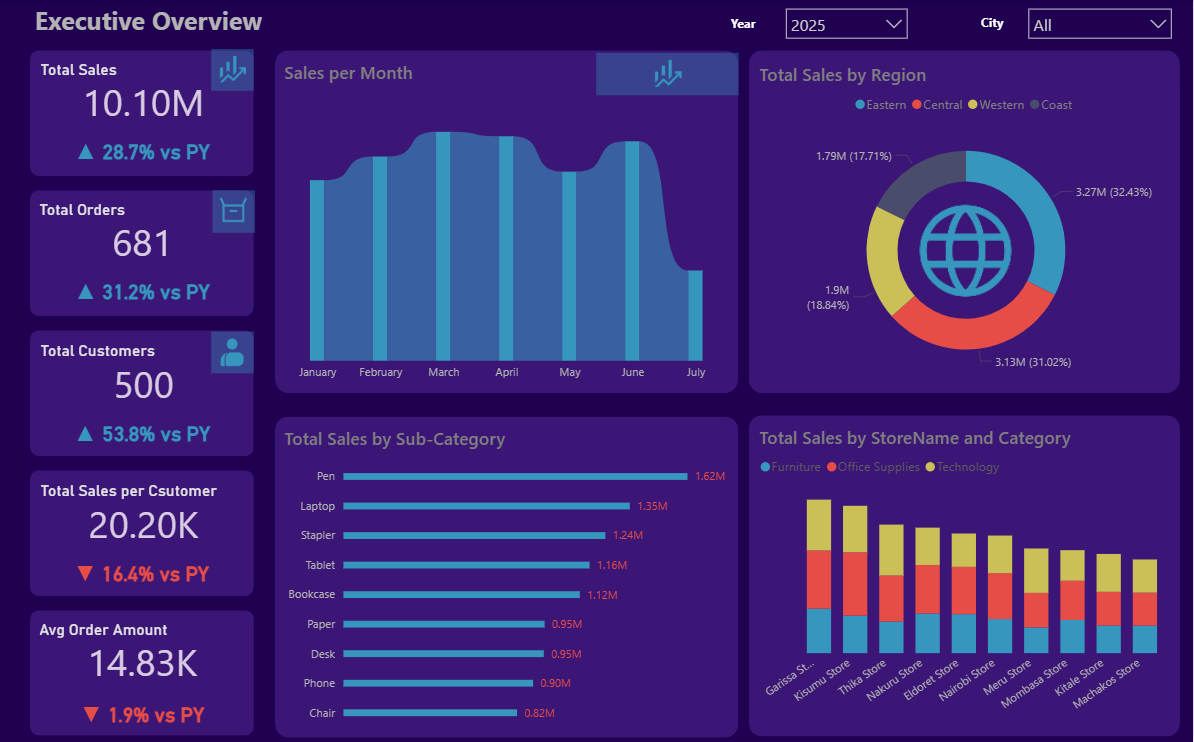

The dashboard page shown, as its layout file describes it:
{"tool":"powerbi","page":{"name":"Executive Overview","canvas":[1280,800],"ordinal":0},"visuals":[{"type":"shape","box":[31.8,54.9,240,135],"z":0},{"type":"shape","box":[31.8,205.1,240,135],"z":1000},{"type":"shape","box":[31.8,355.4,240,135],"z":2000},{"type":"shape","box":[31.8,505.7,240,135],"z":3000},{"type":"shape","box":[31.6,655.9,240.1,134.5],"z":4000},{"type":"card","title":"Total Sales","fields":{"Values":["All Measures.Total Sales"]},"box":[32.9,54.9,240.1,85.1],"z":5000},{"type":"card","title":"Total Orders","fields":{"Values":["All Measures.Total Orders"]},"box":[31.6,204.5,240.1,85.1],"z":6000},{"type":"card","title":"Total Customers","fields":{"Values":["All Measures.Total Customers"]},"box":[32.9,356.8,240.1,85.1],"z":7000},{"type":"card","title":"Total Sales per Csutomer","fields":{"Values":["All Measures.Sales per Customer"]},"box":[32.9,506.3,240.1,85.1],"z":8000},{"type":"card","title":"Avg Order Amount","fields":{"Values":["All Measures.Average Order Amount"]},"box":[31.6,655.9,240.1,85.1],"z":9000},{"type":"shape","box":[295,54.9,496.7,367.8],"z":10000},{"type":"card","fields":{"Values":["All Measures.Previous Year Sales"]},"box":[32.9,140,238.8,49.4],"z":11000},{"type":"card","fields":{"Values":["All Measures.Orders Growth vs PY"]},"box":[32.9,289.5,238.8,49.4],"z":12000},{"type":"card","fields":{"Values":["All Measures.Customers Growth vs PY"]},"box":[32.9,440.5,238.8,49.4],"z":13000},{"type":"card","fields":{"Values":["All Measures.Sales per Customer Growth vs PY"]},"box":[31.6,591.4,240.1,49.4],"z":14000},{"type":"card","fields":{"Values":["All Measures.Avg Order Amount Growth vs PY"]},"box":[32.9,742.4,238.8,49.4],"z":15000},{"type":"ribbonChart","title":"Sales per Month","fields":{"Category":["Orders.OrderDate.Variation.Date Hierarchy.Month"],"Y":["All Measures.Total Sales"]},"box":[295,54.9,496.7,367.8],"z":16000},{"type":"slicer","fields":{"Values":["Orders.OrderDate.Variation.Date Hierarchy.Year"]},"box":[832.9,0,150.9,49.4],"z":17000},{"type":"shape","box":[295,447.3,496.7,344.4],"z":18000},{"type":"shape","box":[803.4,54.9,462.4,367.8],"z":19000},{"type":"shape","box":[803.4,446,462.4,344.4],"z":20000},{"type":"donutChart","fields":{"Y":["All Measures.Total Sales"],"Category":["Stores.Region"]},"box":[804.1,57.6,462.4,365],"z":21000},{"type":"clusteredBarChart","fields":{"Category":["Products.Sub-Category"],"Y":["All Measures.Total Sales"]},"box":[295,447.3,496.7,344.4],"z":22000},{"type":"columnChart","fields":{"Category":["Stores.StoreName"],"Y":["All Measures.Total Sales"],"Series":["Products.Category"]},"box":[804.1,446,462.4,344.4],"z":23000},{"type":"slicer","fields":{"Values":["Customers.City"]},"box":[1092.3,0,174.3,49.4],"z":24000},{"type":"textbox","box":[1047,11,52.1,30.2],"z":25000},{"type":"textbox","box":[779.4,12.3,52.1,30.2],"z":26000},{"type":"textbox","box":[31.6,0,664.2,57.6],"z":27000},{"type":"image","box":[226.4,53.5,45.3,45],"z":28000},{"type":"image","box":[227.8,204.5,45.3,45.3],"z":29000},{"type":"image","box":[226.4,356.8,45.3,45],"z":30000},{"type":"image","box":[971.9,206.4,127.3,127.3],"z":30001},{"type":"image","box":[639.4,57.6,152.8,45.6],"z":30002}]}

Visuals, with their boxes in screenshot pixels (x1, y1, x2, y2), scaled from the page's 1280x800 canvas onto the 1194x742 screenshot:
shape: crop(30, 51, 254, 176)
shape: crop(30, 190, 254, 315)
shape: crop(30, 330, 254, 455)
shape: crop(30, 469, 254, 594)
shape: crop(29, 608, 253, 733)
"Total Sales" card: crop(31, 51, 255, 130)
"Total Orders" card: crop(29, 190, 253, 269)
"Total Customers" card: crop(31, 331, 255, 410)
"Total Sales per Csutomer" card: crop(31, 470, 255, 549)
"Avg Order Amount" card: crop(29, 608, 253, 687)
shape: crop(275, 51, 739, 392)
card - All Measures.Previous Year Sales: crop(31, 130, 253, 176)
card - All Measures.Orders Growth vs PY: crop(31, 269, 253, 314)
card - All Measures.Customers Growth vs PY: crop(31, 409, 253, 454)
card - All Measures.Sales per Customer Growth vs PY: crop(29, 549, 253, 594)
card - All Measures.Avg Order Amount Growth vs PY: crop(31, 689, 253, 734)
"Sales per Month" ribbonChart: crop(275, 51, 739, 392)
slicer - Orders.OrderDate.Variation.Date Hierarchy.Year: crop(777, 0, 918, 46)
shape: crop(275, 415, 739, 734)
shape: crop(749, 51, 1181, 392)
shape: crop(749, 414, 1181, 733)
donutChart - All Measures.Total Sales x Stores.Region: crop(750, 53, 1181, 392)
clusteredBarChart - Products.Sub-Category x All Measures.Total Sales: crop(275, 415, 739, 734)
columnChart - Stores.StoreName x All Measures.Total Sales: crop(750, 414, 1181, 733)
slicer - Customers.City: crop(1019, 0, 1182, 46)
textbox: crop(977, 10, 1025, 38)
textbox: crop(727, 11, 776, 39)
textbox: crop(29, 0, 649, 53)
image: crop(211, 50, 253, 91)
image: crop(212, 190, 255, 232)
image: crop(211, 331, 253, 373)
image: crop(907, 191, 1025, 310)
image: crop(596, 53, 739, 96)
